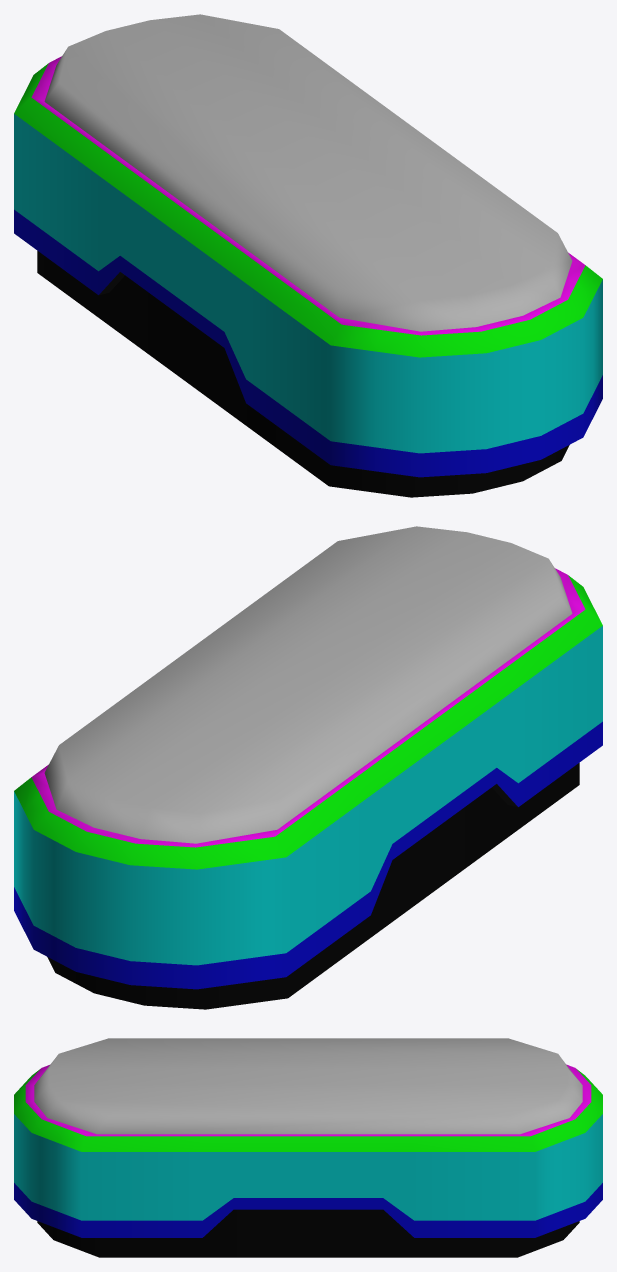
File: SE_HydroTank_Env.fbx
3 views of the same model, one above another, from view 1: azimuth 30°, elevation 25°; view 2: azimuth 150°, elevation 25°; view 3: azimuth 270°, elevation 25° (orthographic). The views are drawn at different scales.
Visible parts, largest first — view 1: HydroTank_Base_LP, HydroTank_Glass_LP; view 2: HydroTank_Base_LP, HydroTank_Glass_LP; view 3: HydroTank_Base_LP, HydroTank_Glass_LP.
Boxes of the visible parts, x1,y1,x2,y2 form: HydroTank_Base_LP: [14, 56, 602, 497]; HydroTank_Glass_LP: [44, 14, 572, 331]; HydroTank_Base_LP: [14, 568, 602, 1009]; HydroTank_Glass_LP: [44, 526, 572, 843]; HydroTank_Base_LP: [14, 1064, 602, 1257]; HydroTank_Glass_LP: [34, 1038, 582, 1134].
Bounding box in the file's own units: 174 × 116 × 454.
